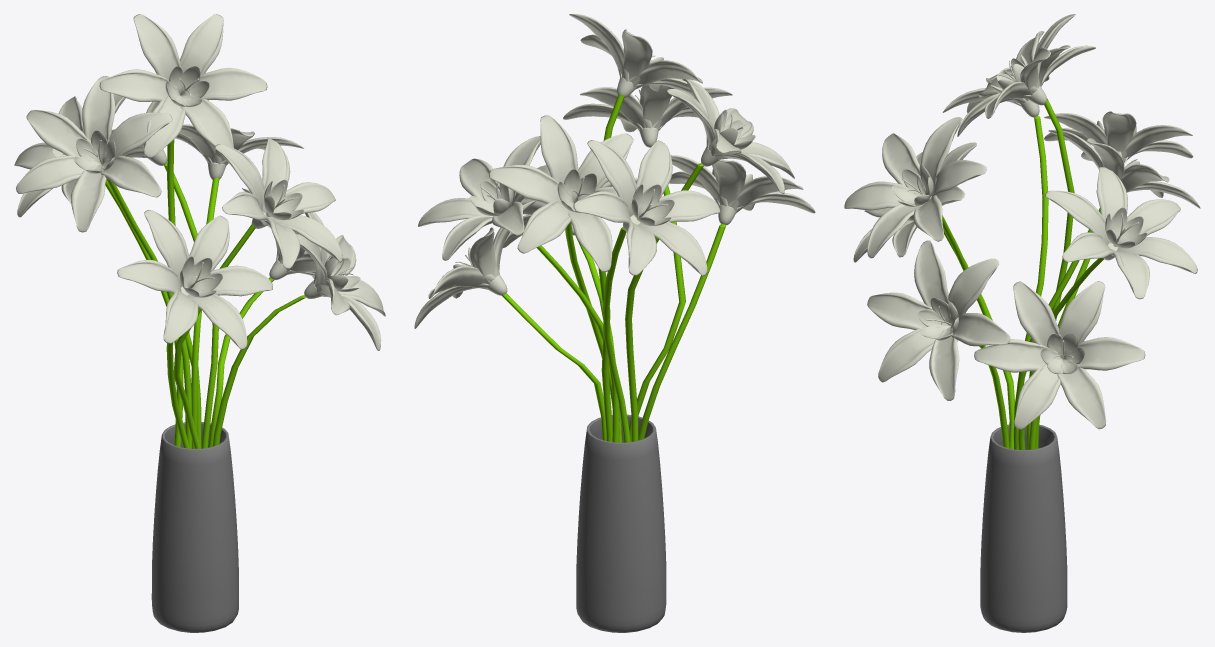
The model's file is hua2-wutai.FBX.
The picture shows the model from 3 angles, left to right: view 1: azimuth 30°, elevation 25°; view 2: azimuth 150°, elevation 25°; view 3: azimuth 270°, elevation 25°; orthographic projection. The views are drawn at different scales.
Visible parts, largest first — view 1: Line01, Sphere110, Sphere117, Sphere105, Sphere70, Sphere107, Sphere71, Sphere91, Sphere67, Sphere66, Sphere78, Sphere79 (+28 smaller); view 2: Line01, Sphere42, Sphere52, Sphere43, Sphere44, ChamferCyl24, ChamferCyl16, Sphere65, ChamferCyl20, Sphere58, Sphere54, Sphere53 (+31 smaller); view 3: Line01, Sphere23, Sphere17, Sphere16, Sphere24, Sphere18, Sphere15, Sphere95, Sphere96, Sphere92, Sphere102, Sphere97 (+30 smaller).
Boxes of the visible parts, x1,y1,x2,y2 form: Line01: (151,422,238,632); Sphere110: (133,14,181,82); Sphere117: (180,14,223,78); Sphere105: (99,69,168,101); Sphere70: (26,110,90,155); Sphere107: (199,68,267,100); Sphere71: (16,155,86,193); Sphere91: (144,210,189,287); Sphere67: (107,112,172,159); Sphere66: (71,170,106,232); Sphere78: (82,76,115,142); Sphere79: (187,294,247,349); Line01: (576,414,666,632); Sphere42: (489,165,561,204); Sphere52: (540,115,578,186); Sphere43: (517,200,572,253); Sphere44: (568,211,612,271); ChamferCyl24: (638,224,725,440); ChamferCyl16: (603,227,630,442); Sphere65: (587,140,637,216); ChamferCyl20: (625,163,703,441); Sphere58: (638,221,707,276); Sphere54: (640,190,720,222); Sphere53: (633,140,672,214); Line01: (980,424,1067,632); Sphere23: (1013,281,1060,349); Sphere17: (1014,363,1062,429); Sphere16: (974,339,1046,372); Sphere24: (1058,281,1105,346); Sphere18: (1057,365,1106,429); Sphere15: (1078,337,1145,370); Sphere95: (867,292,932,329); Sphere96: (878,326,938,382); Sphere92: (914,240,949,309); Sphere102: (947,258,999,320); Sphere97: (929,334,959,400).
Bounding box in the file's own units: 410 × 705 × 387.
